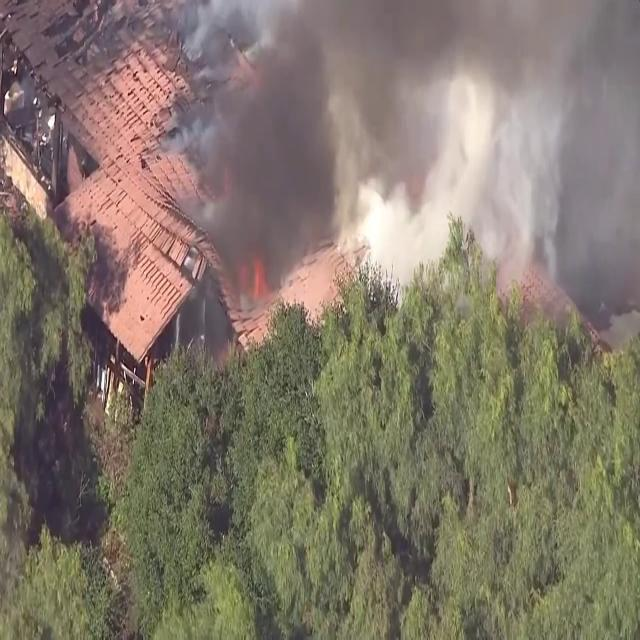Smoke: (170, 0, 640, 362)
